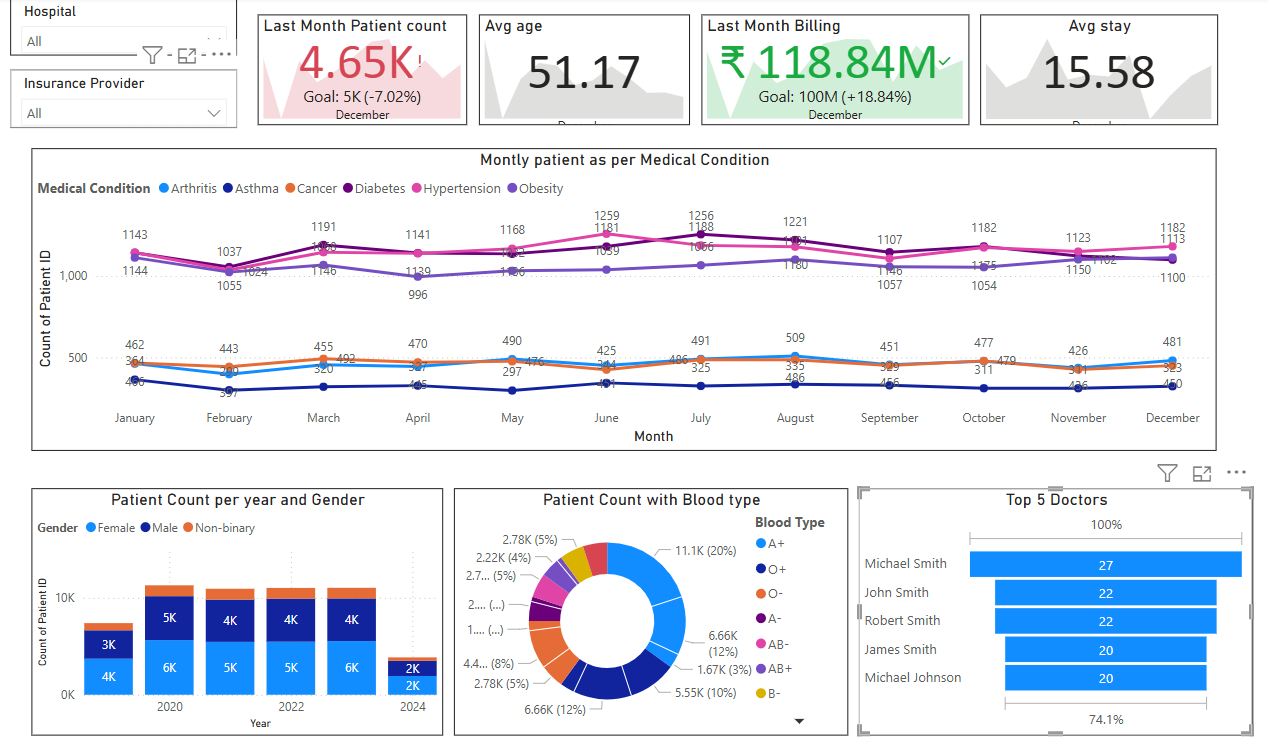

What the dashboard file says about the page in this screenshot:
{"tool":"powerbi","page":{"name":"Page 1","canvas":[1302,867],"ordinal":0},"visuals":[{"type":"kpi","title":"Last Month Patient count","fields":{"Indicator":["Count(Data.Patient ID)"],"TrendLine":["Data.Date of Admission.Variation.Date Hierarchy.Month"],"Goal":["Data.Monthly PC Target"]},"box":[272.4,17.7,212,111.9],"z":0},{"type":"kpi","title":"Avg age","fields":{"TrendLine":["Data.Date of Admission.Variation.Date Hierarchy.Month"],"Indicator":["Avg(Data.Age)"]},"box":[496.2,17.7,213.5,111.9],"z":1000},{"type":"kpi","title":"Last Month Billing","fields":{"TrendLine":["Data.Date of Admission.Variation.Date Hierarchy.Month"],"Indicator":["Sum(Data.Billing Amount)"],"Goal":["Data.Billing target"]},"box":[721.5,17.7,270.9,111.9],"z":2000},{"type":"kpi","title":"Avg stay","fields":{"TrendLine":["Data.Date of Admission.Variation.Date Hierarchy.Month"],"Indicator":["Avg(Data.stay duration)"]},"box":[1003.2,17.5,240.6,112.3],"z":3000},{"type":"lineChart","title":"Montly patient as per Medical Condition","fields":{"Category":["Data.Date of Admission.Variation.Date Hierarchy.Month"],"Y":["CountNonNull(Data.Patient ID)"],"Series":["Data.Medical Condition"]},"box":[42.7,153.1,1200.1,306.3],"z":4000},{"type":"columnChart","title":"Patient Count per year and Gender","fields":{"Category":["Data.Date of Admission.Variation.Date Hierarchy.Year"],"Y":["CountNonNull(Data.Patient ID)"],"Series":["Data.Gender"]},"box":[42.7,497.7,416.7,250.3],"z":5000},{"type":"donutChart","title":"Patient Count with Blood type","fields":{"Y":["CountNonNull(Data.Patient ID)"],"Series":["Data.Gender"],"Category":["Data.Blood Type"]},"box":[471.2,497.7,399,250.3],"z":6000},{"type":"funnel","title":"Top 5 Doctors","fields":{"Category":["Data.Doctor"],"Y":["CountNonNull(Data.Patient ID)"]},"box":[880.6,497.7,399,250.3],"z":7000},{"type":"slicer","fields":{"Values":["Data.Hospital"]},"box":[22.1,0,229.7,58.9],"z":8000},{"type":"slicer","fields":{"Values":["Data.Insurance Provider"]},"box":[22.1,73.6,229.7,58.9],"z":9000}]}

Visuals, with their boxes on the page's 1302x867 design canvas (x1, y1, x2, y2). These are canvas units, not pixel positions in the 1268x743 screenshot, which may show the page scaled, cropped or inside an application window:
"Last Month Patient count" kpi: 272:18:484:130
"Avg age" kpi: 496:18:710:130
"Last Month Billing" kpi: 722:18:992:130
"Avg stay" kpi: 1003:18:1244:130
"Montly patient as per Medical Condition" lineChart: 43:153:1243:459
"Patient Count per year and Gender" columnChart: 43:498:459:748
"Patient Count with Blood type" donutChart: 471:498:870:748
"Top 5 Doctors" funnel: 881:498:1280:748
slicer - Data.Hospital: 22:0:252:59
slicer - Data.Insurance Provider: 22:74:252:132
